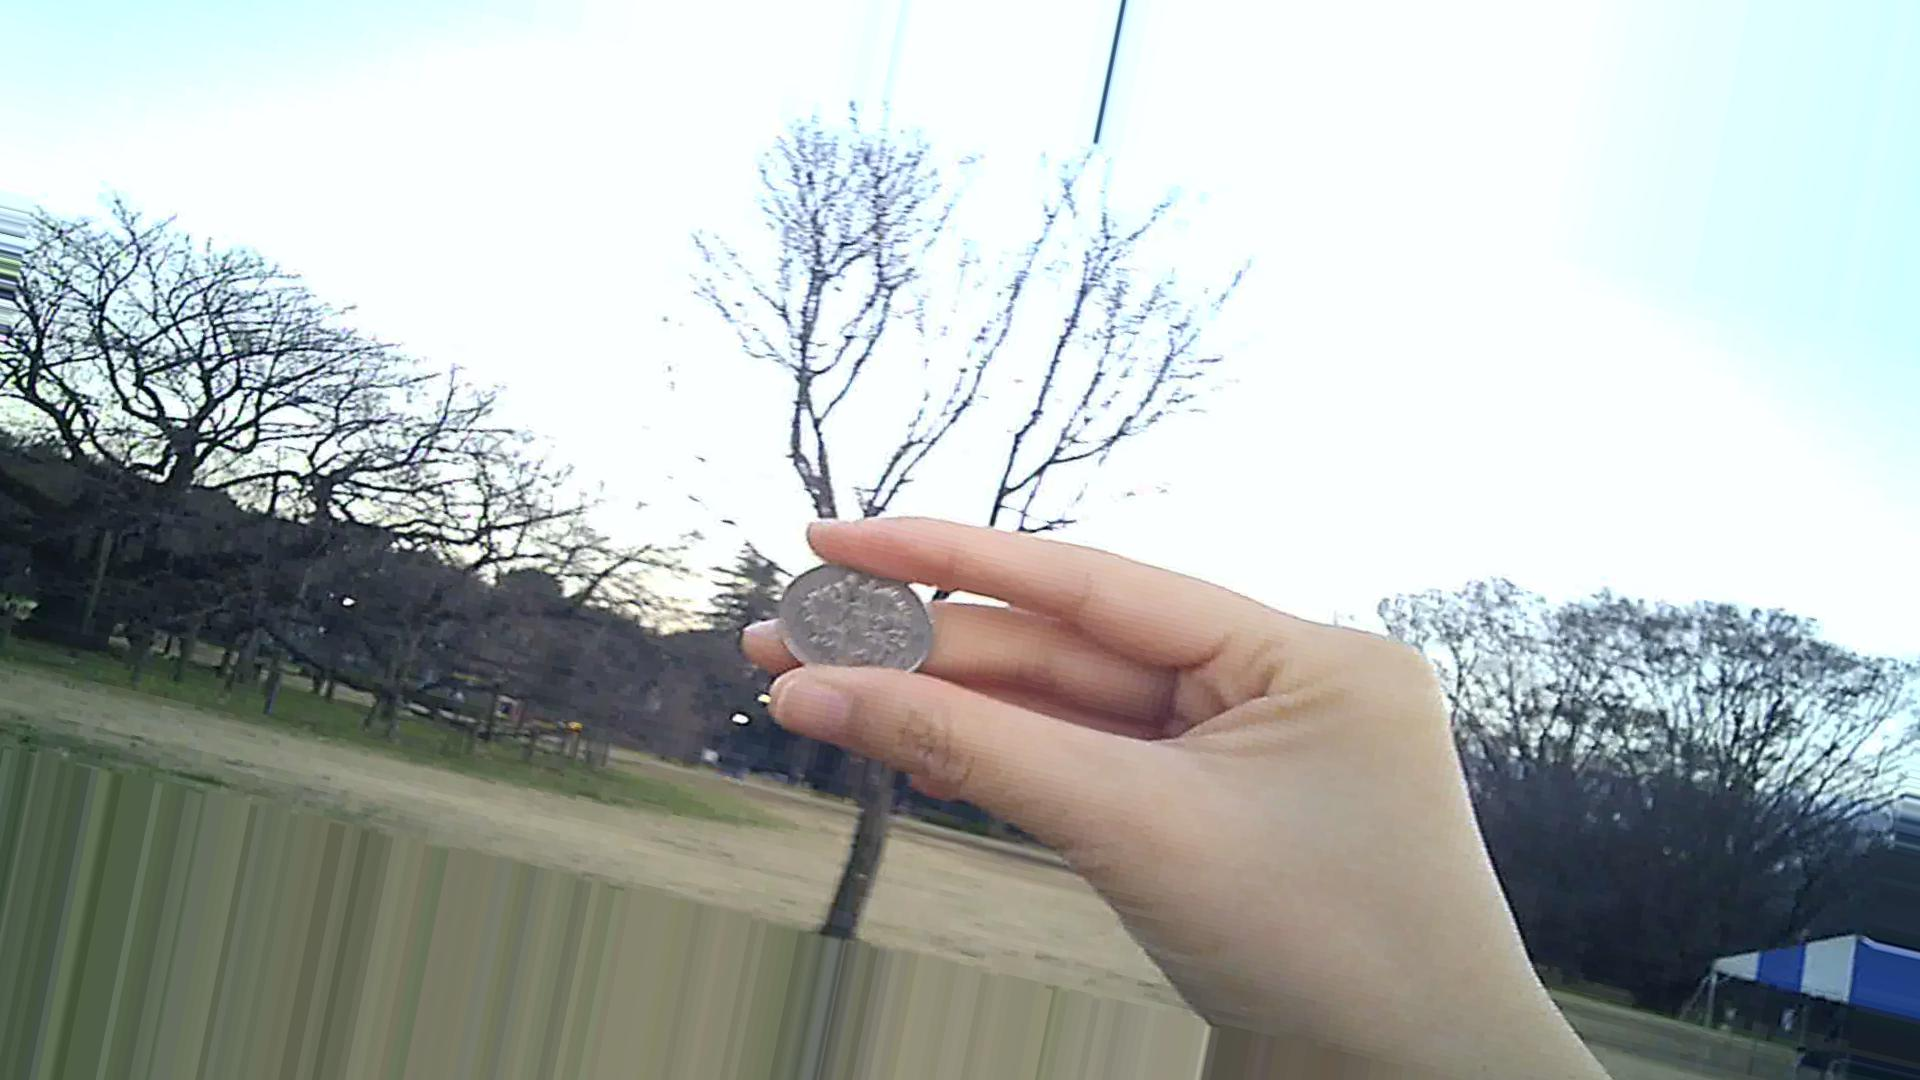100 Yen: (765, 549, 940, 702)
